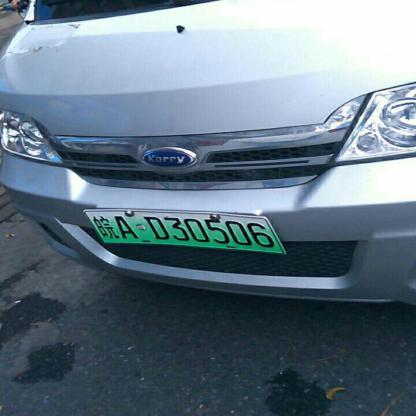lp: (83, 210, 285, 254)
